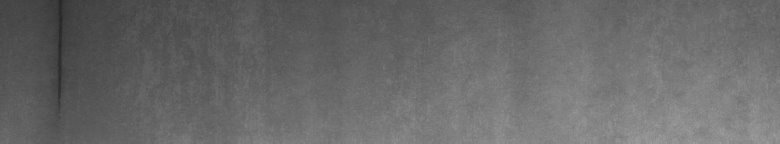hd: (54, 4, 68, 113)
